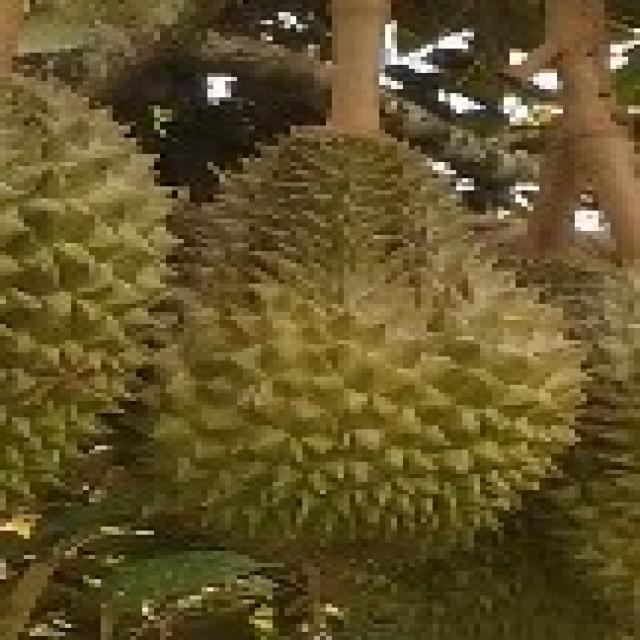immature: (108, 122, 589, 568)
